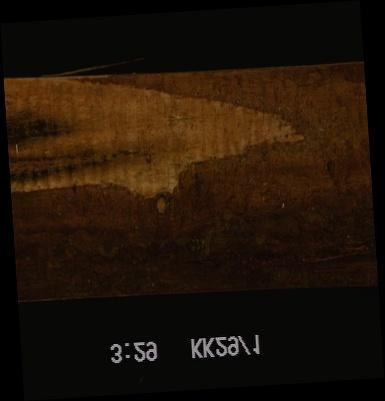wave: (10, 73, 370, 291)
